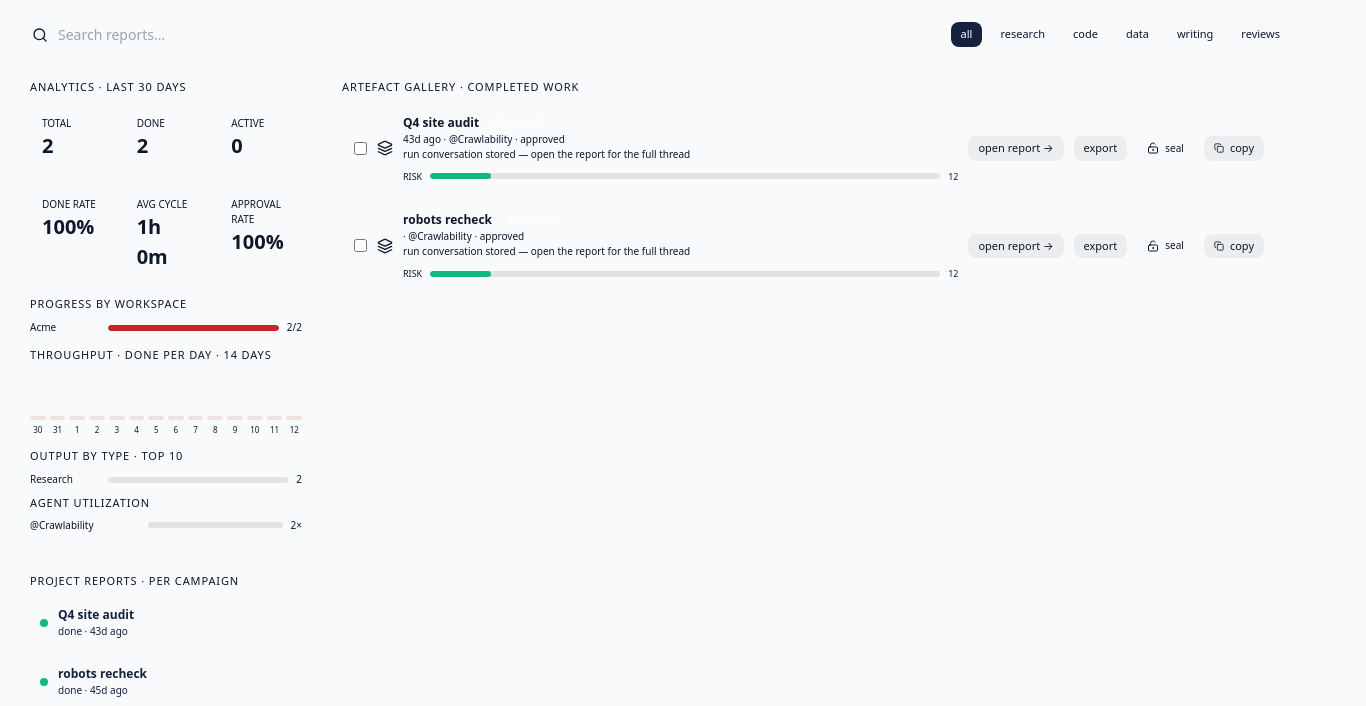
Test: ReportsWindow · v13 win-reports (analytics + gallery) › seal toggles the locked state; select updates the bulk bar
Click the button with aria-label "Seal Q4 site audit".
click(1166, 148)  # box [1137,137,1194,160]
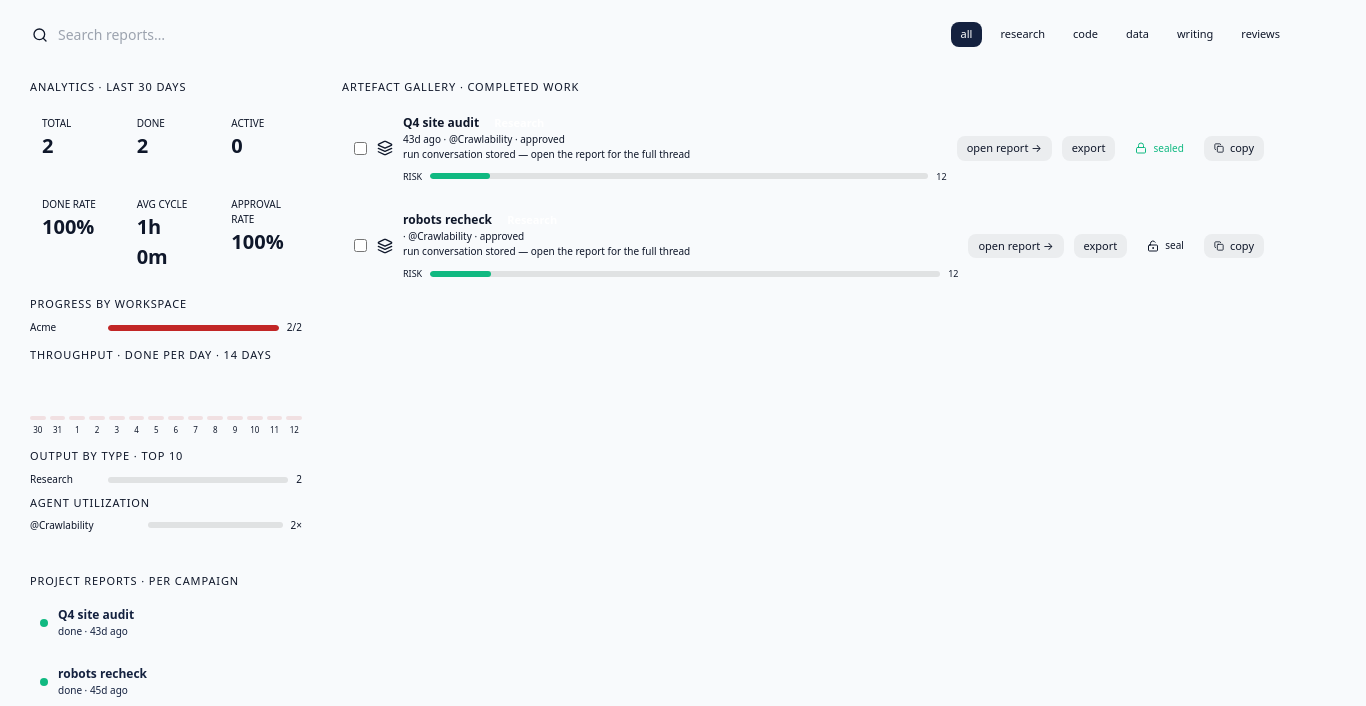
expect the button with aria-label "Unseal Q4 site audit" is shown: met, box [1126,137,1194,160]
Click the checkbox named "Select Q4 site audit".
click(360, 148)  # box [354,142,367,155]
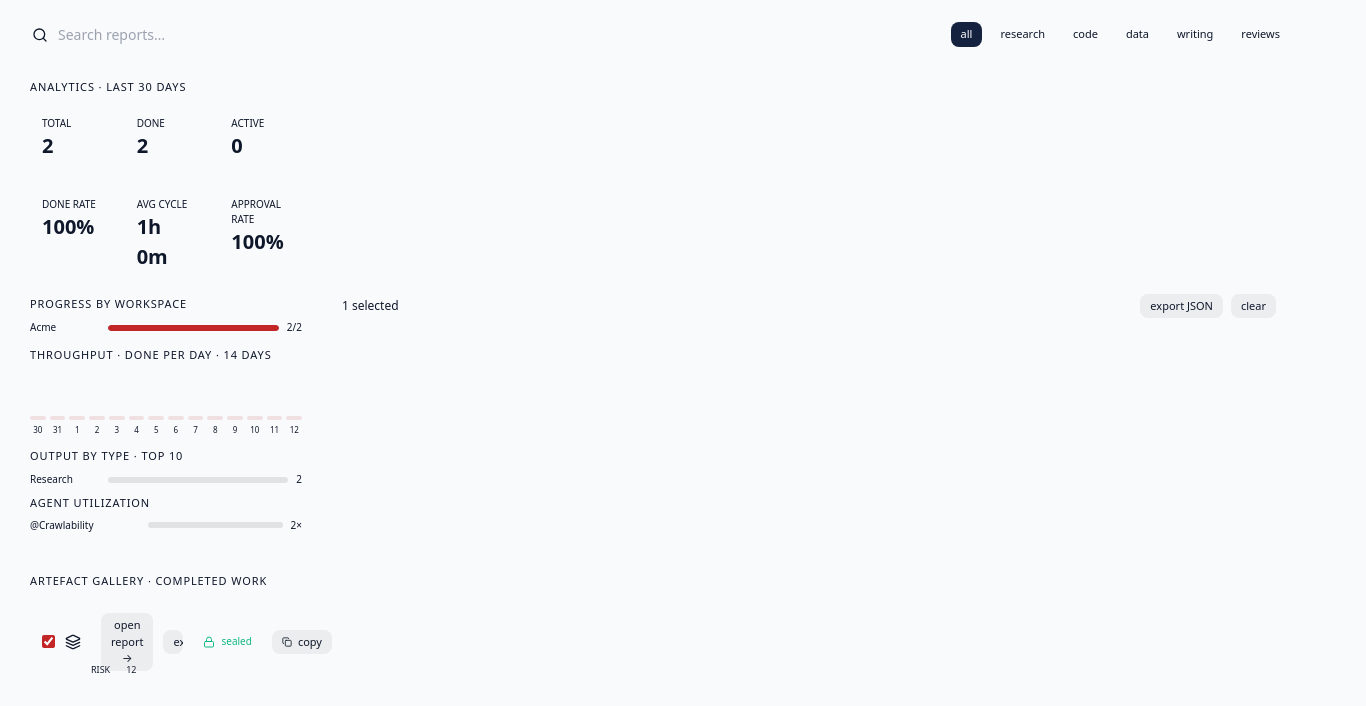
expect the text "1 selected" is shown: met, box [342,297,399,315]
expect the button "export JSON" is shown: met, box [1140,294,1223,318]
